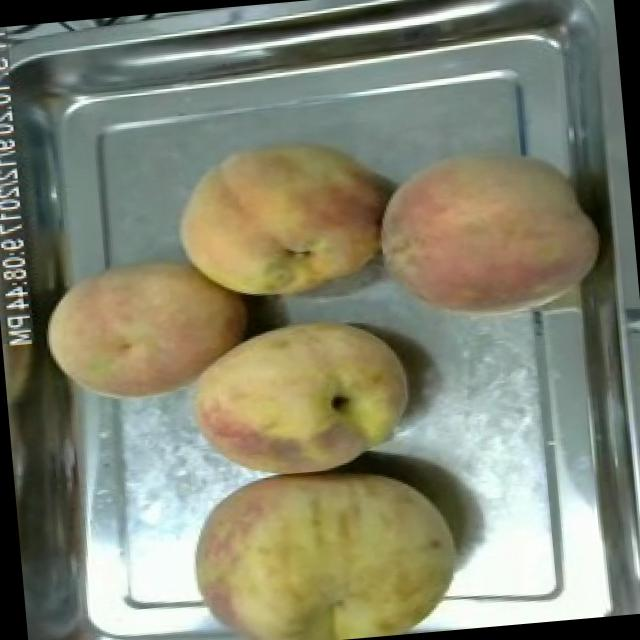Fruit: (174, 450, 471, 640), (361, 133, 614, 339), (173, 300, 423, 486), (162, 126, 398, 316), (28, 242, 260, 418)
